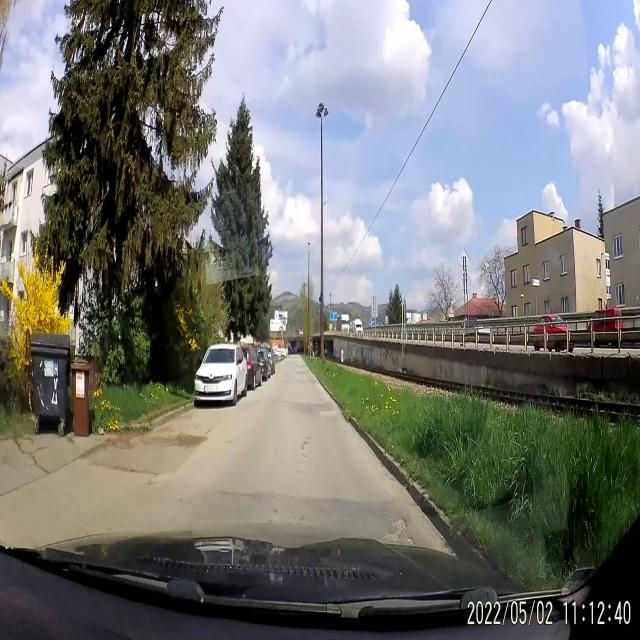Pothole: (89, 426, 200, 482)
